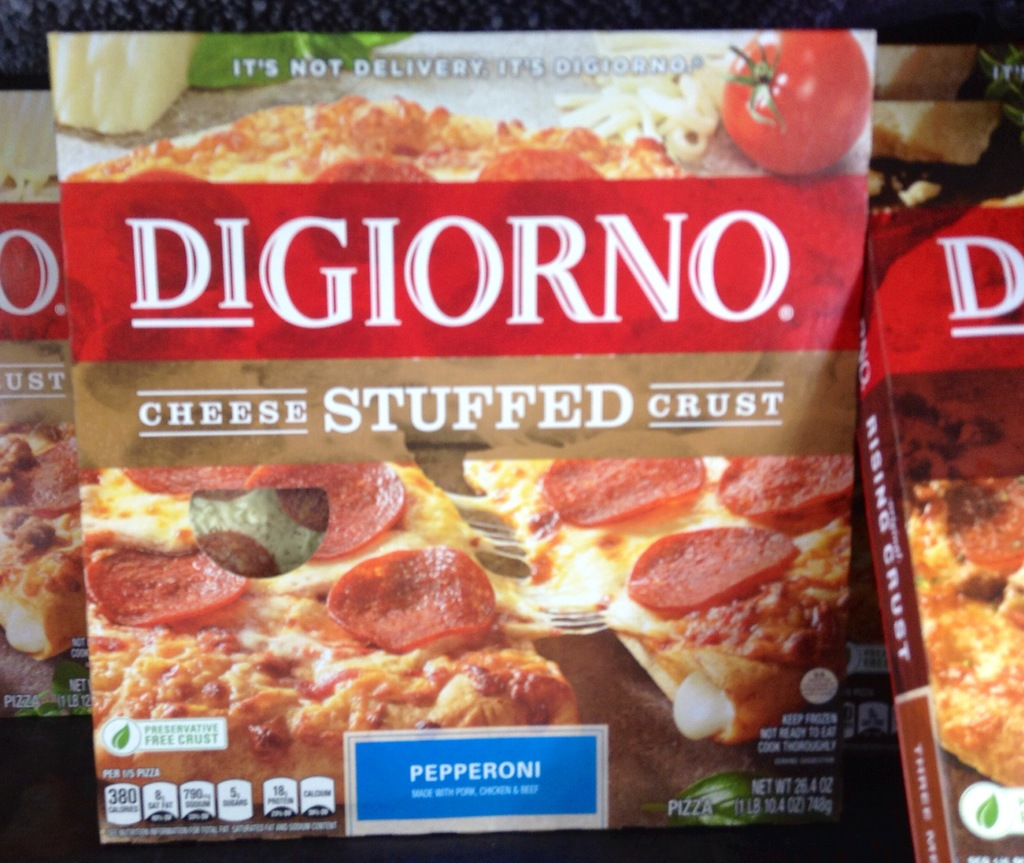Pizza: (61, 441, 579, 778), (465, 441, 849, 752), (67, 86, 714, 194), (904, 363, 1023, 792), (4, 430, 96, 672)
